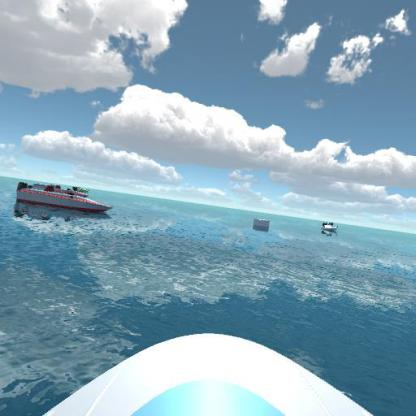usv0: (73, 182, 91, 195)
usv1: (319, 216, 344, 237)
usv3: (14, 177, 113, 215)
